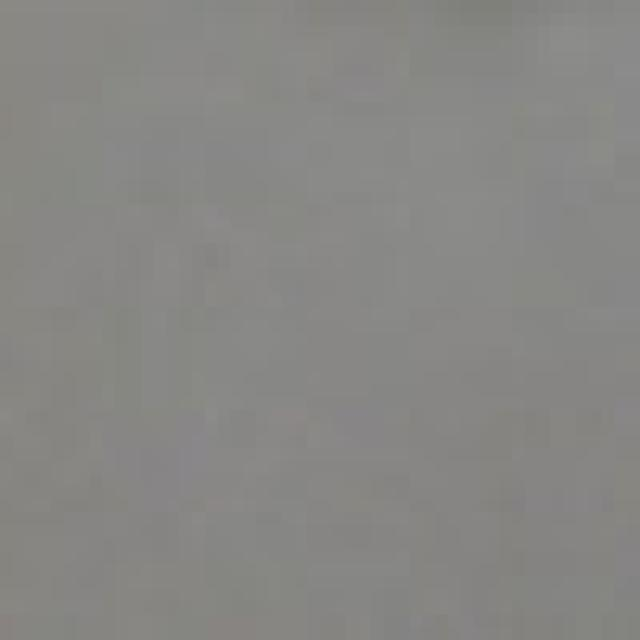no_fire: (4, 4, 640, 627)
